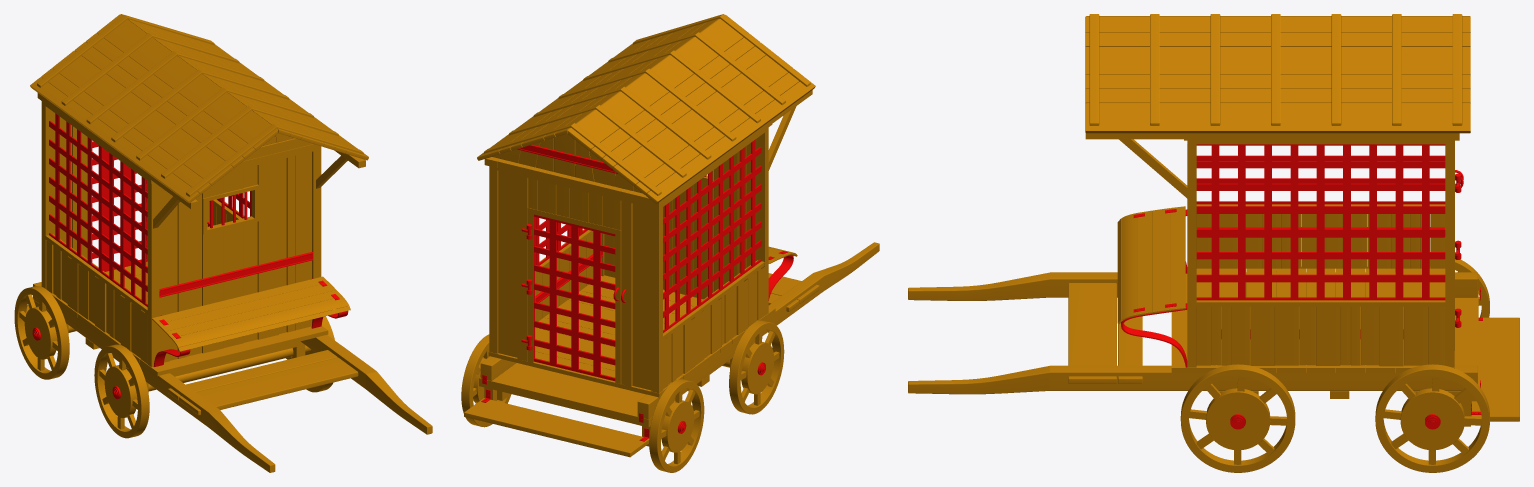
File: SM_Carriage_07.fbx
The picture shows the model from 3 angles, left to right: view 1: azimuth 30°, elevation 25°; view 2: azimuth 150°, elevation 25°; view 3: azimuth 270°, elevation 25°; orthographic projection. The views are drawn at different scales.
Visible parts, largest first — view 1: SM_Carriage_07; view 2: SM_Carriage_07; view 3: SM_Carriage_07.
Part boxes in pixels (left/top/right/bottom): SM_Carriage_07: left=14, top=14, right=432, bottom=472; SM_Carriage_07: left=461, top=14, right=879, bottom=472; SM_Carriage_07: left=908, top=14, right=1519, bottom=472.
Size of the model in its own units: 295 by 629 by 454.
